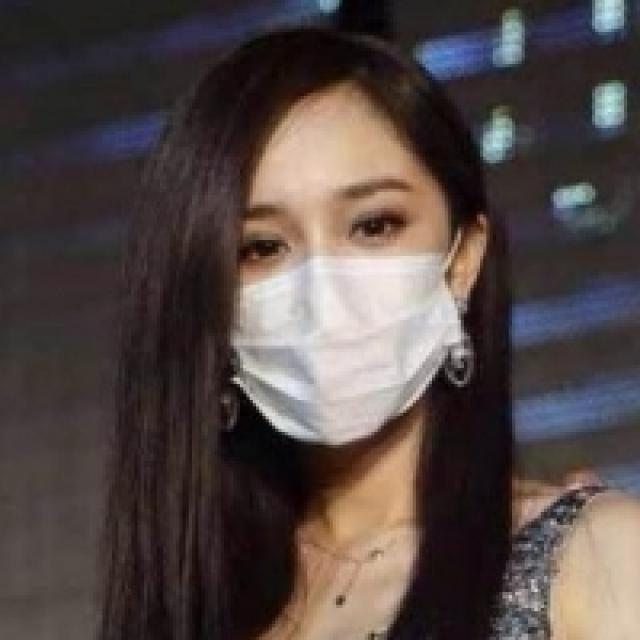mask: (203, 93, 443, 432)
